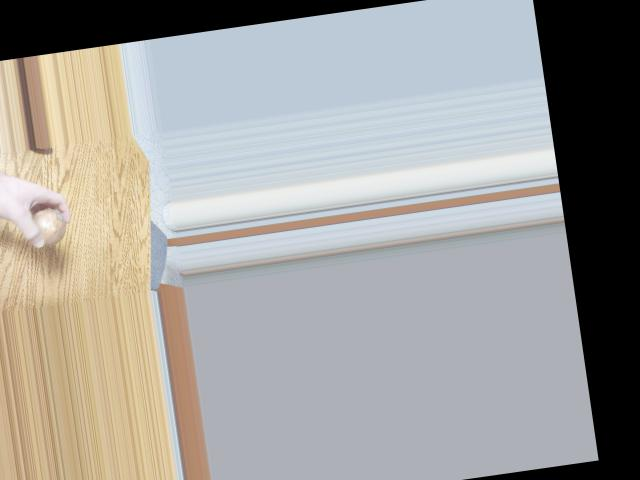onion: (26, 207, 68, 246)
